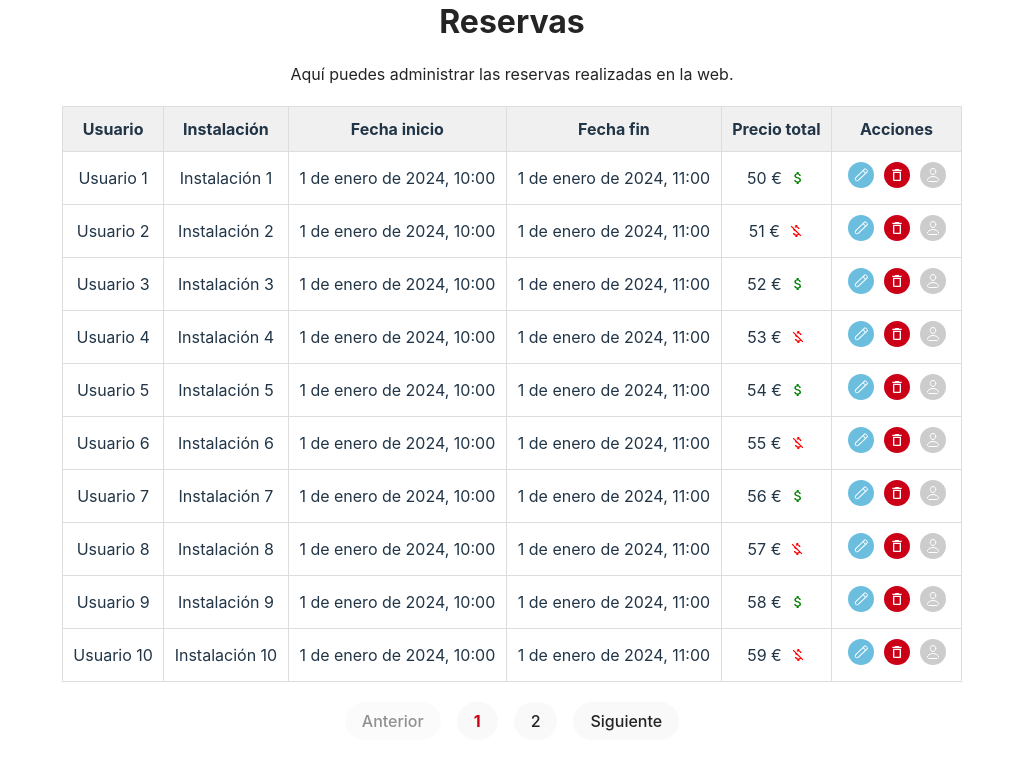
Scenario: AdminReservations Component › Pagination › navigates to the second page
The width and height of the screenshot is (1024, 768).
(page scrolled)
Expected: the text "Usuario 1" is shown, left=62, top=152, right=164, bottom=205
Click the button "2" at [536, 721], box left=514, top=702, right=558, bottom=740
(page scrolled)
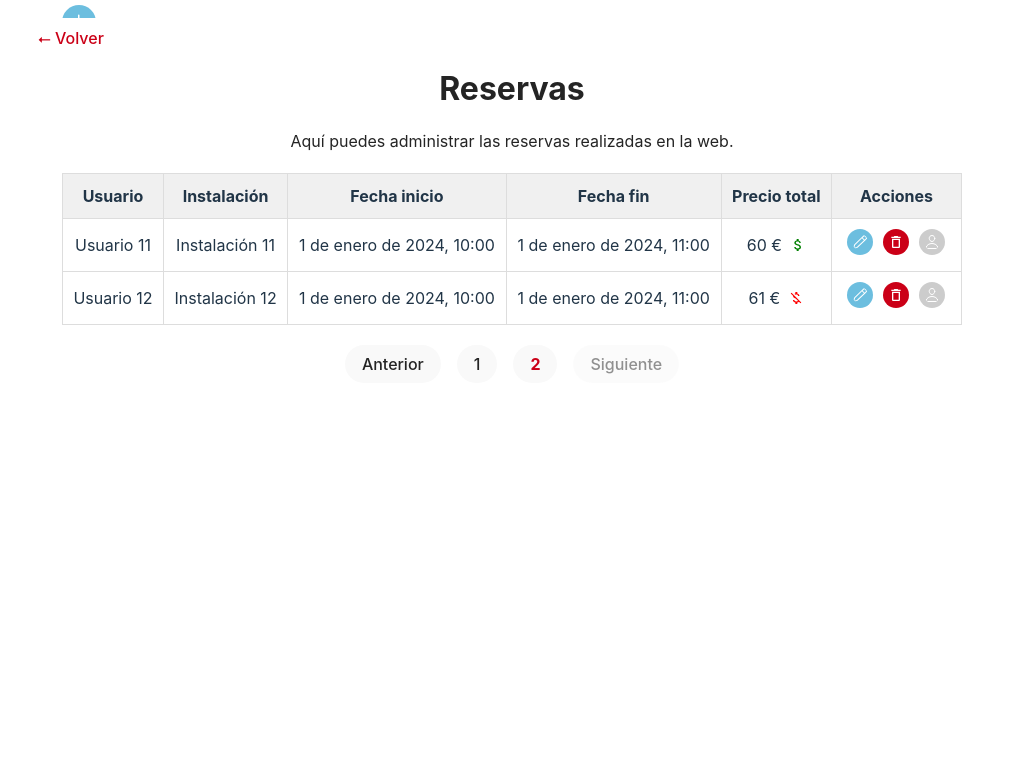
Expected: the text "Usuario 11" is shown, left=62, top=219, right=164, bottom=272
